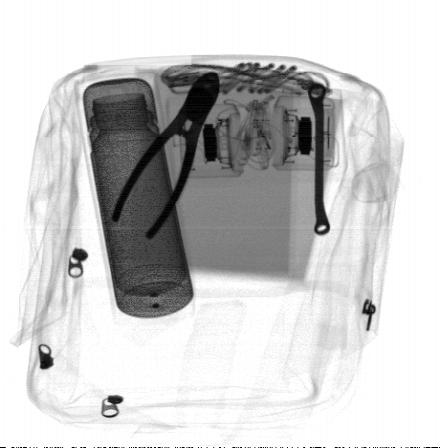Pliers: (112, 71, 222, 240)
Wrench: (306, 83, 332, 236)
